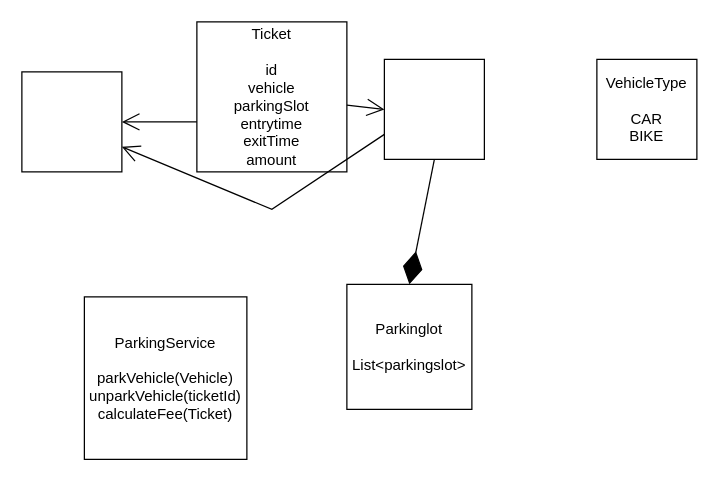
This 719x481 diagram has some shape labels left out. The shapes that lost their labels are listed below. From the top down, each one's box as (x1, y1, x2, y2) in pixels, then its label:
(21, 71, 122, 172): Vehicle id type
(383, 58, 484, 159): parkingSlot id isoccupied vehicle
